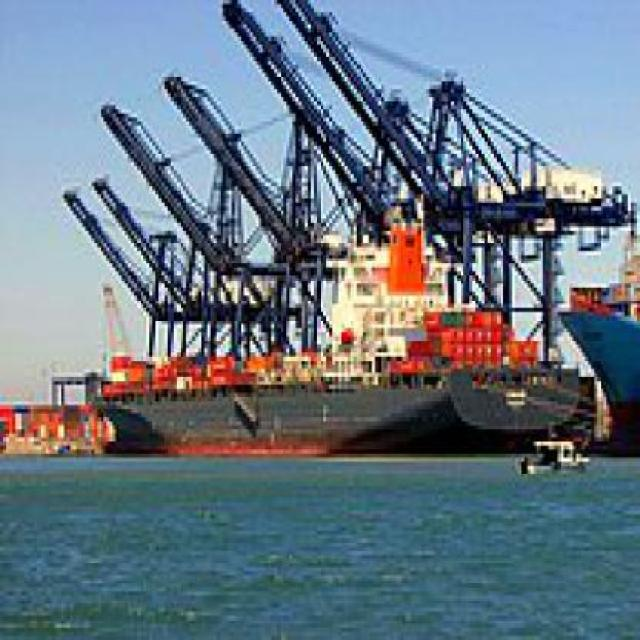container: (71, 207, 571, 467)
